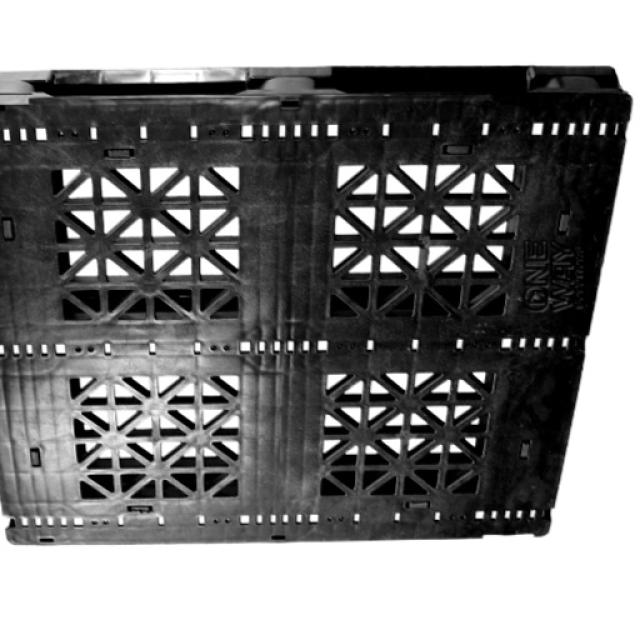non-igps: (0, 63, 633, 546)
